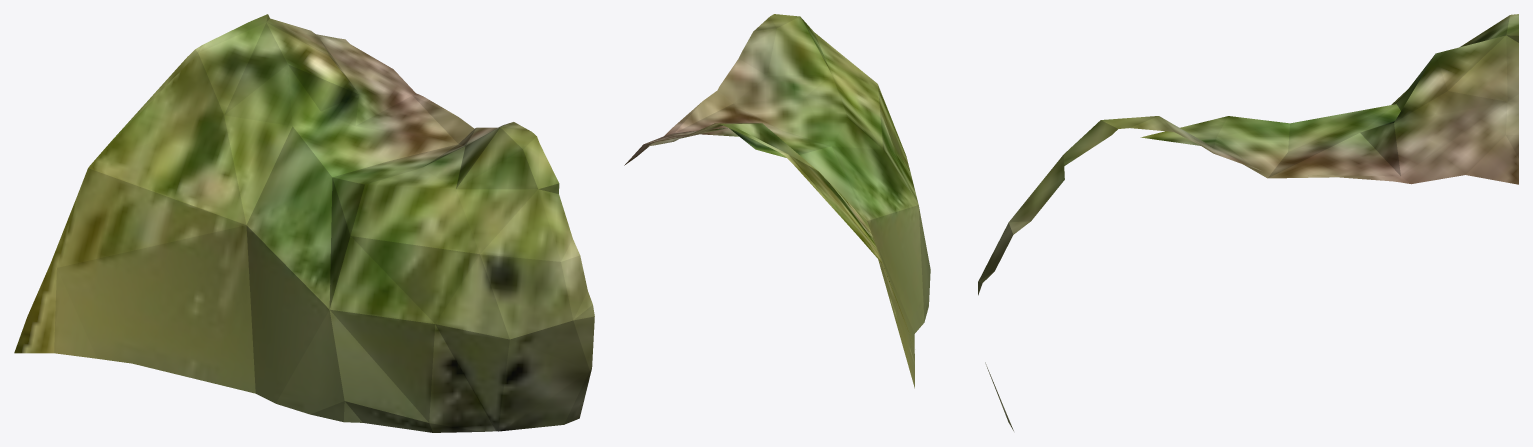
3 views of the same model, side by side, from view 1: azimuth 30°, elevation 25°; view 2: azimuth 150°, elevation 25°; view 3: azimuth 270°, elevation 25° (orthographic). The views are drawn at different scales.
Bounding box in the file's own units: 0.5797 × 0.4299 × 0.6272.
1 material, 1 textured.
